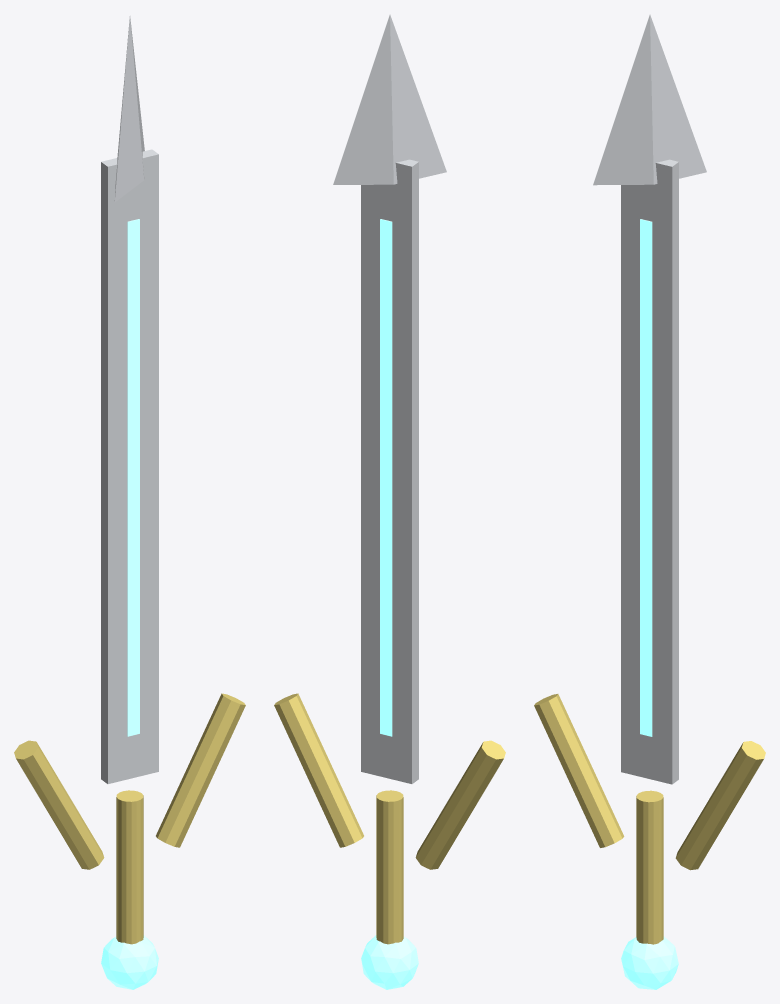
File: archangel_sword.glb
3 renders of one model, left to right at view 1: azimuth 30°, elevation 25°; view 2: azimuth 150°, elevation 25°; view 3: azimuth 330°, elevation 25°, orthographic.
Visible parts, largest first — view 1: Cube, Cube.001, Cylinder.002, Cylinder, Cylinder.001, Cone, Icosphere; view 2: Cube, Cone, Cube.001, Cylinder.002, Cylinder, Cylinder.001, Icosphere; view 3: Cube, Cone, Cube.001, Cylinder.001, Cylinder, Cylinder.002, Icosphere.
Part boxes in pixels (bbox=[...]): Cube: bbox=[101, 149, 158, 783]; Cube.001: bbox=[127, 219, 139, 736]; Cylinder.002: bbox=[156, 693, 245, 847]; Cylinder: bbox=[116, 790, 143, 944]; Cylinder.001: bbox=[14, 740, 104, 869]; Cone: bbox=[114, 16, 144, 202]; Icosphere: bbox=[101, 935, 158, 989]; Cube: bbox=[361, 159, 418, 783]; Cone: bbox=[333, 14, 446, 184]; Cube.001: bbox=[380, 219, 392, 736]; Cylinder.002: bbox=[274, 693, 363, 847]; Cylinder: bbox=[376, 790, 403, 944]; Cylinder.001: bbox=[415, 740, 505, 869]; Icosphere: bbox=[361, 935, 418, 989]; Cube: bbox=[621, 159, 678, 784]; Cone: bbox=[593, 14, 706, 185]; Cube.001: bbox=[640, 219, 652, 736]; Cylinder.001: bbox=[534, 694, 624, 847]; Cylinder: bbox=[636, 790, 663, 944]; Cylinder.002: bbox=[675, 741, 765, 870]; Icosphere: bbox=[621, 936, 678, 989].
Size of the model in its own units: 0.5805 by 2.36 by 0.1838.
